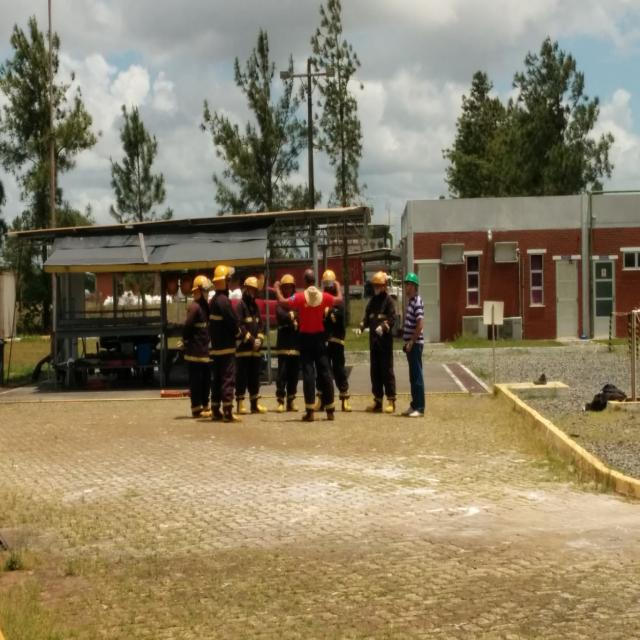no_fire: (44, 75, 588, 573)
